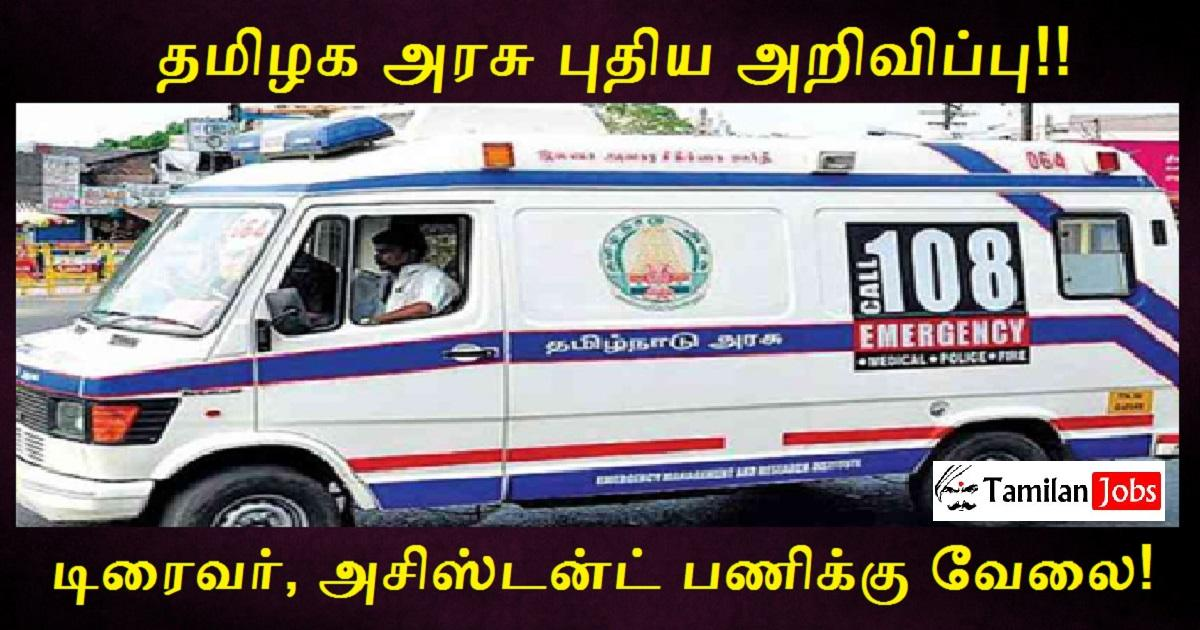ER: (15, 104, 1181, 524)
